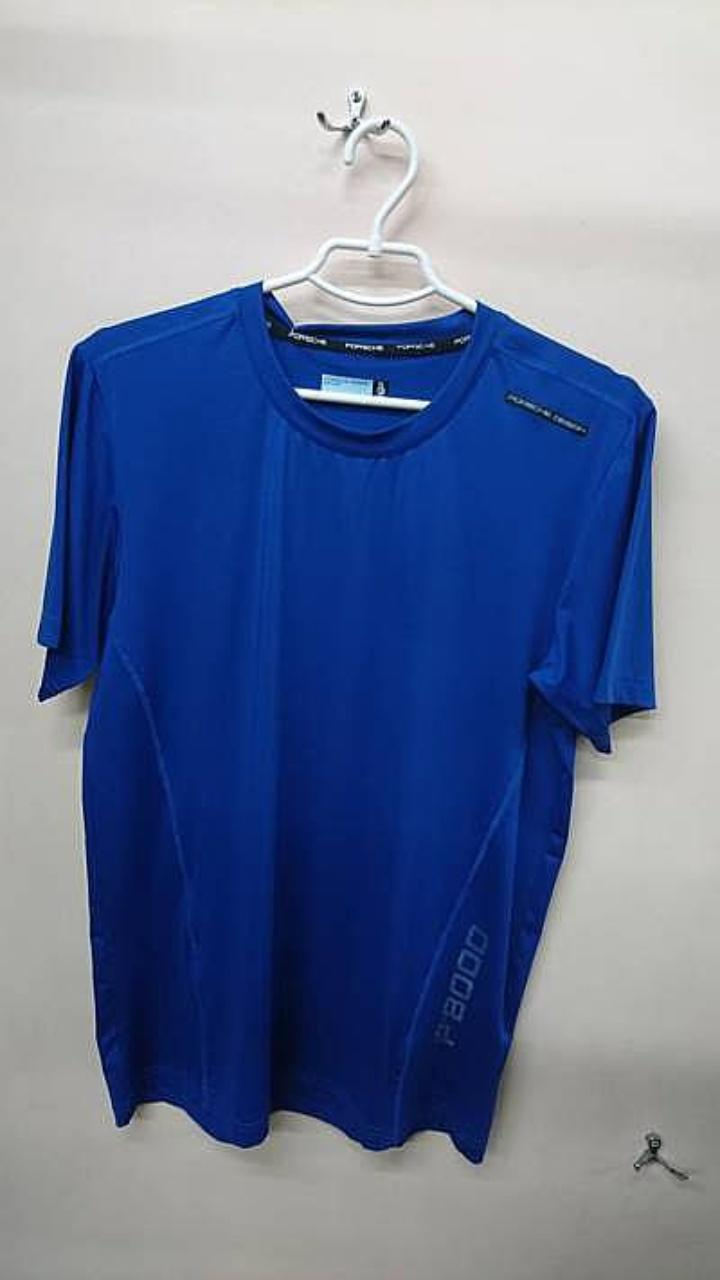T-Shirt: (37, 280, 655, 1162)
